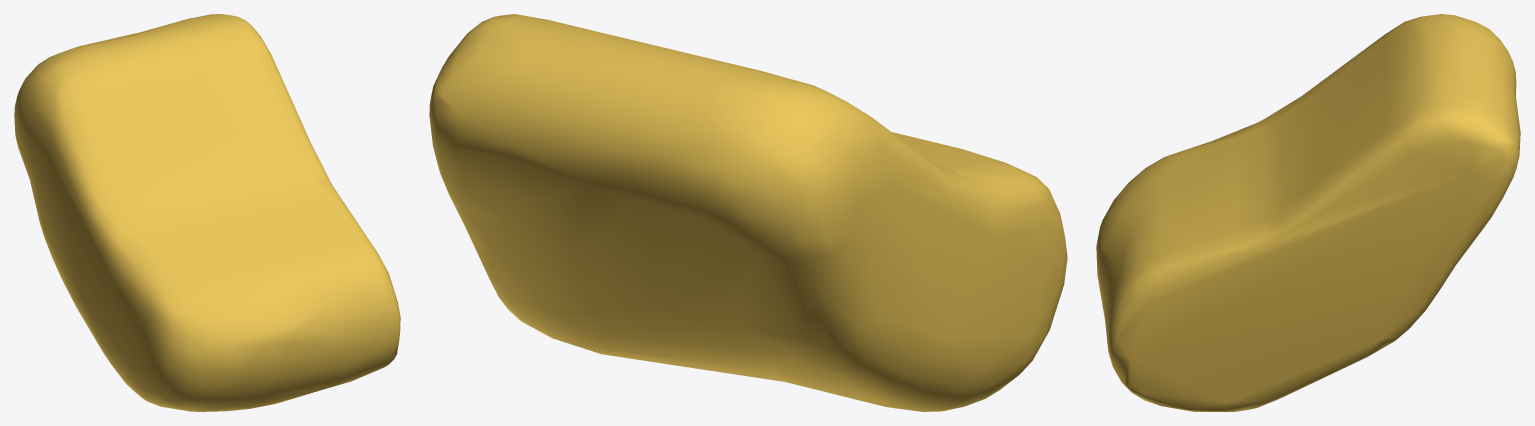
File: Optic_chiasm_right.glb
3 renders of one model, left to right at view 1: azimuth 30°, elevation 25°; view 2: azimuth 150°, elevation 25°; view 3: azimuth 270°, elevation 25°, orthographic. The views are drawn at different scales.
Visible parts, largest first — view 1: Optic_chiasm.r_grp1.061; view 2: Optic_chiasm.r_grp1.061; view 3: Optic_chiasm.r_grp1.061.
Boxes of the visible parts, x1,y1,x2,y2 form: Optic_chiasm.r_grp1.061: (14, 14, 400, 411); Optic_chiasm.r_grp1.061: (429, 14, 1067, 411); Optic_chiasm.r_grp1.061: (1096, 14, 1520, 411).
Size of the model in its own units: 0.00711 by 0.00785 by 0.01.
